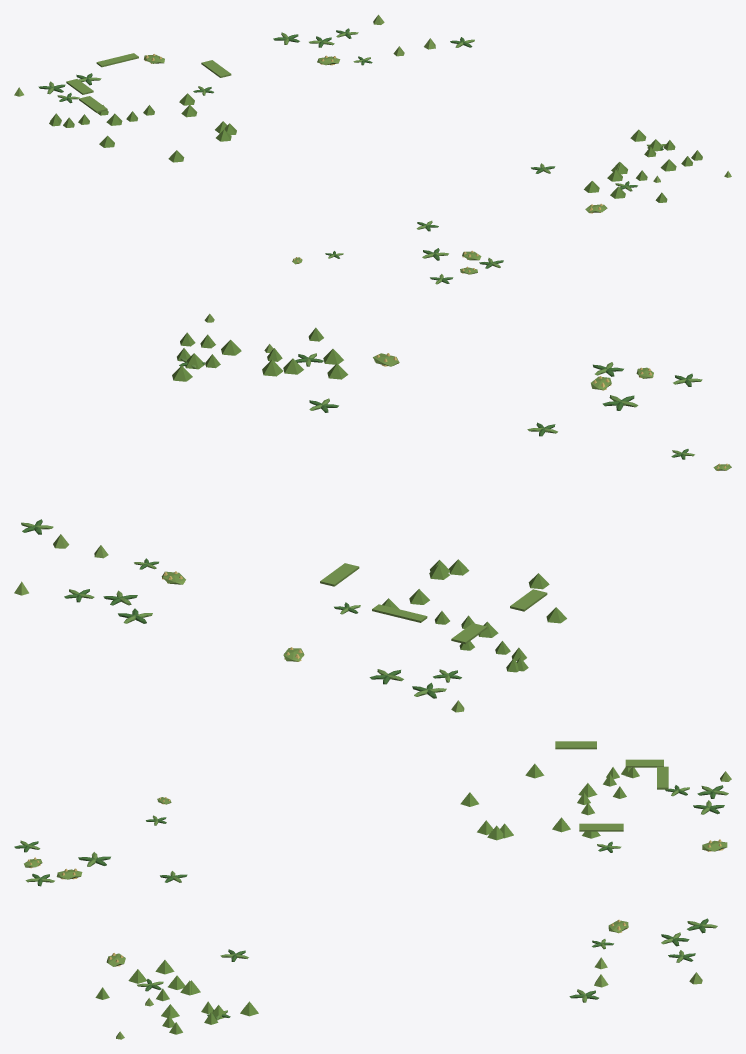
File: mossbound_ruins_nonsolid_props.fbx
3 renders of one model, top to bottom at view 1: azimuth 30°, elevation 25°; view 2: azimuth 150°, elevation 25°; view 3: azimuth 270°, elevation 25°, orthographic. The views are drawn at different scales.
Visible parts, largest first — view 1: chunk_mossbound_ruins__PropsNonSolid; view 2: chunk_mossbound_ruins__PropsNonSolid; view 3: chunk_mossbound_ruins__PropsNonSolid.
Boxes of the visible parts, bbox=[...] form: chunk_mossbound_ruins__PropsNonSolid: bbox=[14, 14, 731, 284]; chunk_mossbound_ruins__PropsNonSolid: bbox=[14, 313, 731, 712]; chunk_mossbound_ruins__PropsNonSolid: bbox=[14, 741, 731, 1039].
Size of the model in its own units: 173 by 14.61 by 199.
